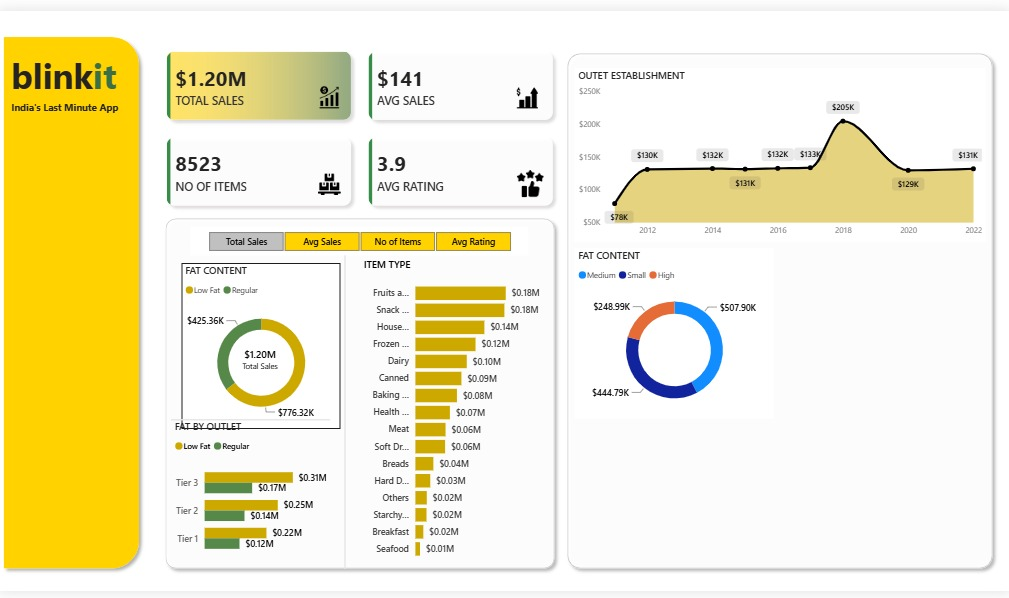

What the dashboard file says about the page in this screenshot:
{"tool":"powerbi","page":{"name":"Blinkit Dashboard","canvas":[1400,800],"ordinal":0},"visuals":[{"type":"shape","box":[0,26.9,204.6,750.3],"z":0},{"type":"textbox","box":[14.5,49.6,177.8,88.9],"z":1000},{"type":"textbox","box":[14.5,117.8,175.7,41.3],"z":2000},{"type":"cardVisual","fields":{"Data":["BlinkIT Grocery Data.Total Sales","BlinkIT Grocery Data.Avg Sales","BlinkIT Grocery Data.No of Items","BlinkIT Grocery Data.Avg Rating"]},"box":[204.6,26.9,591.1,270.8],"z":3000},{"type":"image","box":[442.3,99.2,31,39.3],"z":4000},{"type":"image","box":[715.2,99.2,31,41.3],"z":5000},{"type":"image","box":[442.3,219.1,31,39.3],"z":6000},{"type":"image","box":[715.2,219.1,39.3,37.2],"z":7000},{"type":"shape","box":[223.2,277,553.9,500.2],"z":8000},{"type":"donutChart","title":"FAT CONTENT","fields":{"Y":["BlinkIT Grocery Data.Total Sales"],"Category":["BlinkIT Grocery Data.Item Fat Content"]},"box":[254.2,347.2,219.1,229.4],"z":9000},{"type":"slicer","fields":{"Values":["Metrics.Metrics"]},"box":[266.6,297.6,465.1,39.3],"z":10000},{"type":"cardVisual","fields":{"Data":["BlinkIT Grocery Data.Total Sales"]},"box":[305.9,446.5,113.7,66.1],"z":11000},{"type":"clusteredBarChart","title":"FAT BY OUTLET","fields":{"Y":["BlinkIT Grocery Data.Total Sales"],"Category":["BlinkIT Grocery Data.Outlet Location Type"],"Series":["BlinkIT Grocery Data.Item Fat Content"]},"box":[239.8,562.2,219.1,200.5],"z":12000},{"type":"shape","box":[239.8,551.9,219.1,22.7],"z":13000},{"type":"shape","box":[473.3,336.9,12.4,432],"z":14000},{"type":"barChart","title":"ITEM TYPE","fields":{"Y":["BlinkIT Grocery Data.Total Sales"],"Category":["BlinkIT Grocery Data.Item Type"]},"box":[500.2,339,252.2,425.8],"z":15000},{"type":"shape","box":[777.2,49.6,603.5,727.6],"z":16000},{"type":"lineChart","title":"OUTET ESTABLISHMENT","fields":{"Category":["BlinkIT Grocery Data.Outlet Establishment Year"],"Y":["BlinkIT Grocery Data.Total Sales"]},"box":[795.8,78.5,566.3,239.8],"z":17000},{"type":"donutChart","title":"OUTLET SIZE","fields":{"Y":["BlinkIT Grocery Data.Total Sales"],"Category":["BlinkIT Grocery Data.Outlet Size"]},"box":[795.8,326.6,274.9,235.6],"z":18000},{"type":"shape","box":[1058.3,339,12.4,225.3],"z":19000},{"type":"funnel","title":"OUTLET LOCATION","fields":{"Category":["BlinkIT Grocery Data.Outlet Location Type"],"Y":["Sum(BlinkIT Grocery Data.Sales)"]},"box":[1070.7,332.8,291.4,219.1],"z":20000},{"type":"shape","box":[795.8,308,566.3,24.8],"z":21000},{"type":"shape","box":[789.6,562.2,566.3,24.8],"z":22000},{"type":"pivotTable","title":"OUTLET TYPE ","fields":{"Rows":["BlinkIT Grocery Data.Outlet Type"],"Values":["BlinkIT Grocery Data.Total Sales","BlinkIT Grocery Data.No of Items","BlinkIT Grocery Data.Avg Sales","BlinkIT Grocery Data.Avg Rating","Avg(BlinkIT Grocery Data.Item Visibility)"]},"box":[789.6,591.1,578.7,155],"z":23000},{"type":"slicer","fields":{"Values":["BlinkIT Grocery Data.Outlet Location Type"]},"box":[14.5,262.5,175.7,64.1],"z":23001},{"type":"slicer","fields":{"Values":["BlinkIT Grocery Data.Outlet Size"]},"box":[14.5,349.3,175.7,64.1],"z":23002},{"type":"slicer","fields":{"Values":["BlinkIT Grocery Data.Item Type"]},"box":[16.5,429.9,175.7,64.1],"z":23003},{"type":"textbox","box":[16.5,217,175.7,41.3],"z":23004}]}

Visuals, with their boxes on the page's 1400x800 design canvas (x1, y1, x2, y2). These are canvas units, not pixel positions in the 1009x598 screenshot, which may show the page scaled, cropped or inside an application window:
shape: 0 27 205 777
textbox: 14 50 192 138
textbox: 14 118 190 159
cardVisual - BlinkIT Grocery Data.Total Sales x BlinkIT Grocery Data.Avg Sales: 205 27 796 298
image: 442 99 473 138
image: 715 99 746 140
image: 442 219 473 258
image: 715 219 754 256
shape: 223 277 777 777
"FAT CONTENT" donutChart: 254 347 473 577
slicer - Metrics.Metrics: 267 298 732 337
cardVisual - BlinkIT Grocery Data.Total Sales: 306 446 420 513
"FAT BY OUTLET" clusteredBarChart: 240 562 459 763
shape: 240 552 459 575
shape: 473 337 486 769
"ITEM TYPE" barChart: 500 339 752 765
shape: 777 50 1381 777
"OUTET ESTABLISHMENT" lineChart: 796 78 1362 318
"OUTLET SIZE" donutChart: 796 327 1071 562
shape: 1058 339 1071 564
"OUTLET LOCATION" funnel: 1071 333 1362 552
shape: 796 308 1362 333
shape: 790 562 1356 587
"OUTLET TYPE " pivotTable: 790 591 1368 746
slicer - BlinkIT Grocery Data.Outlet Location Type: 14 262 190 327
slicer - BlinkIT Grocery Data.Outlet Size: 14 349 190 413
slicer - BlinkIT Grocery Data.Item Type: 16 430 192 494
textbox: 16 217 192 258
